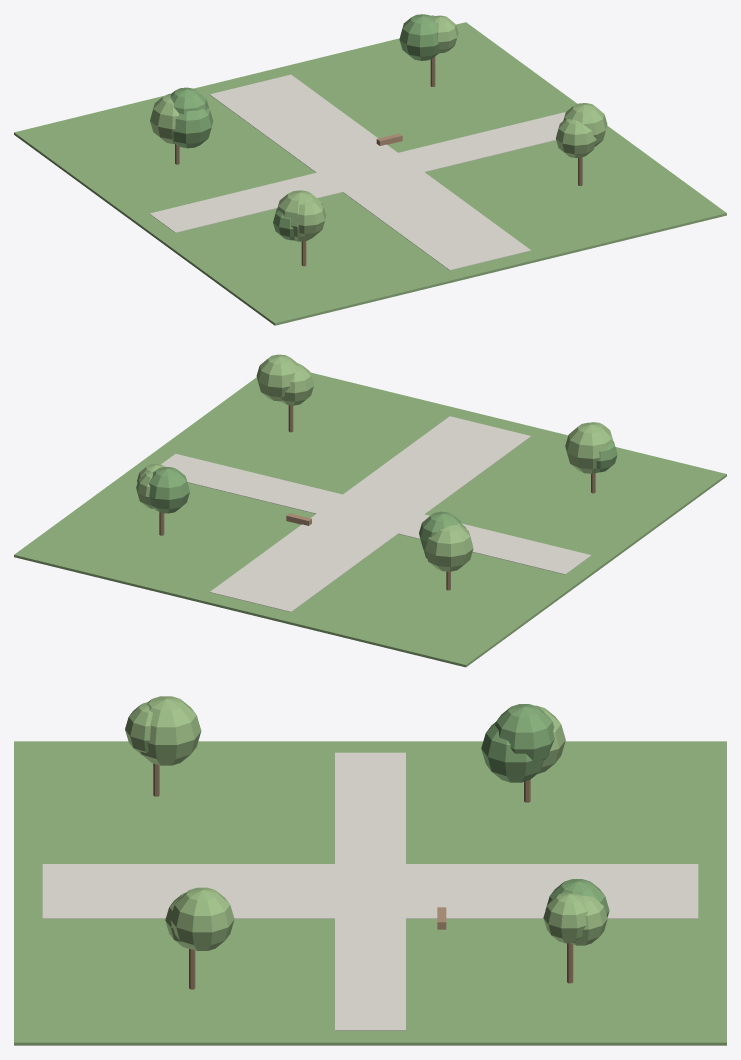
File: park.glb
3 views of the same model, one above another, from view 1: azimuth 30°, elevation 25°; view 2: azimuth 150°, elevation 25°; view 3: azimuth 270°, elevation 25° (orthographic). The views are drawn at different scales.
Visible parts, largest first — view 1: Cube, Cube.001, Sphere, Sphere.001, Cylinder; view 2: Cube, Cube.001, Sphere, Sphere.001; view 3: Cube, Cube.001, Sphere, Sphere.001, Cylinder.
Boxes of the visible parts, x1=… form: Cube: x1=14, y1=22, x2=726, y2=325; Cube.001: x1=149, y1=74, x2=565, y2=270; Sphere: x1=150, y1=15, x2=607, y2=241; Sphere.001: x1=170, y1=14, x2=440, y2=240; Cylinder: x1=175, y1=56, x2=582, y2=266; Cube: x1=14, y1=372, x2=726, y2=667; Cube.001: x1=161, y1=416, x2=591, y2=611; Sphere: x1=136, y1=354, x2=613, y2=571; Sphere.001: x1=148, y1=441, x2=617, y2=558; Cube: x1=14, y1=741, x2=726, y2=1045; Cube.001: x1=42, y1=752, x2=698, y2=1030; Sphere: x1=125, y1=696, x2=607, y2=950; Sphere.001: x1=481, y1=704, x2=609, y2=917; Cylinder: x1=153, y1=763, x2=573, y2=989.
Size of the model in its own units: 40 by 6.6 by 40.
